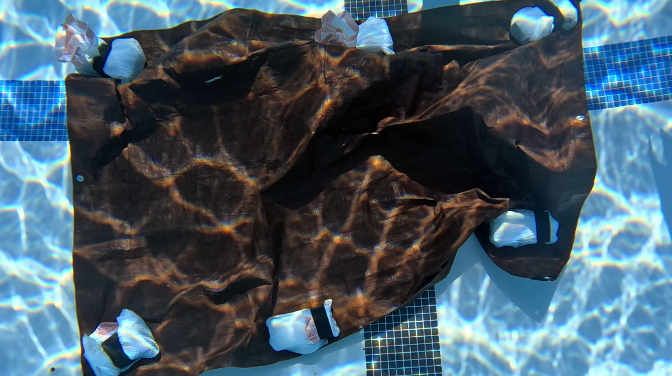sandbag: (55, 0, 599, 375)
